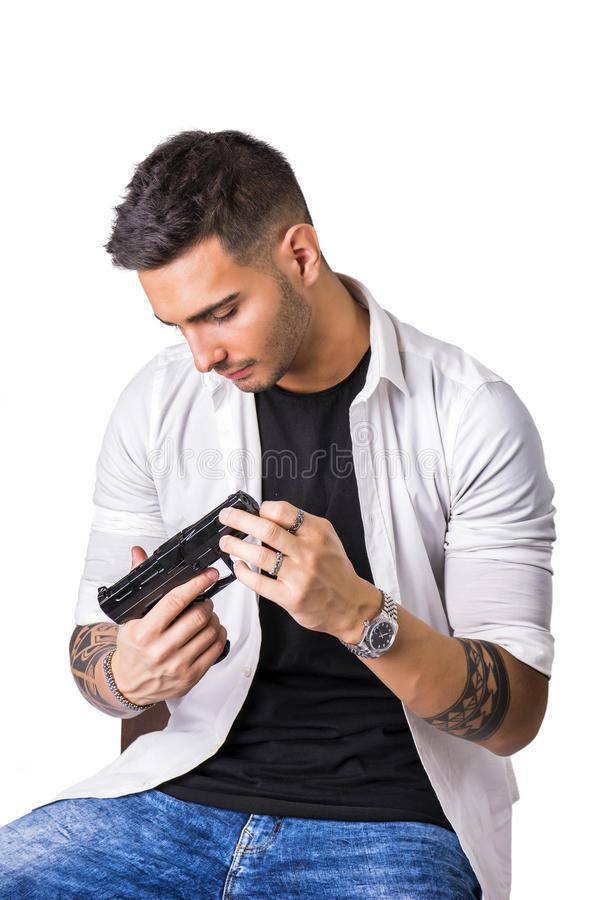criminal: (0, 122, 560, 900)
weapon: (93, 484, 270, 669)
